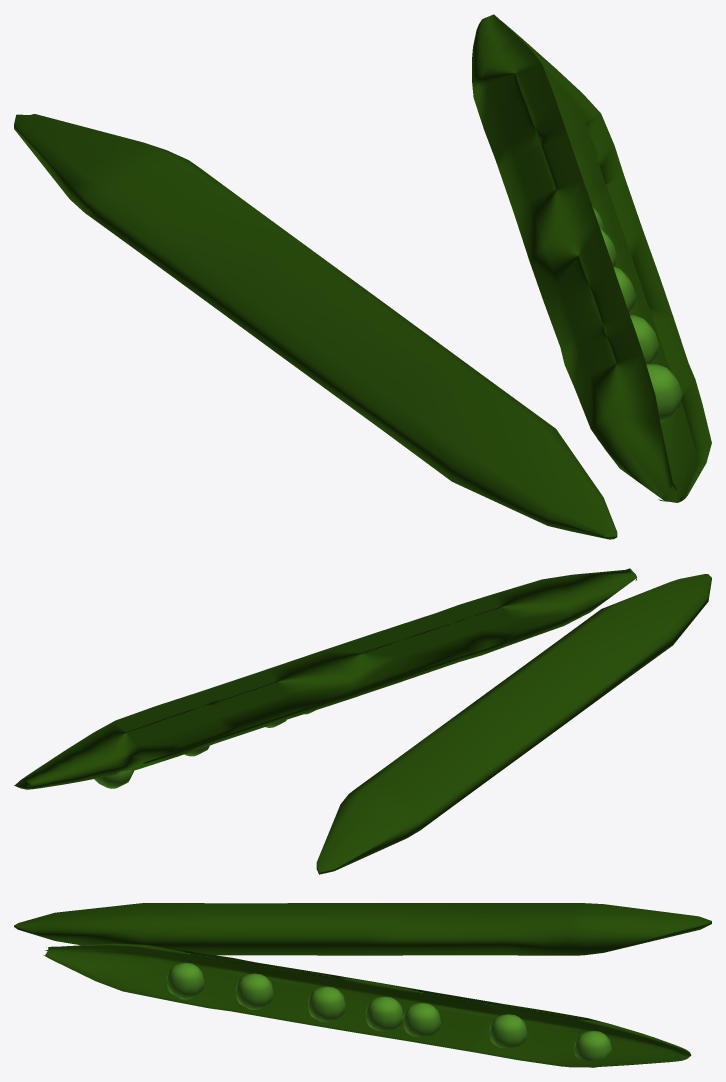
The model's file is peass.fbx.
3 renders of one model, top to bottom at view 1: azimuth 30°, elevation 25°; view 2: azimuth 150°, elevation 25°; view 3: azimuth 270°, elevation 25°, orthographic. The views are drawn at different scales.
Visible parts, largest first — view 1: polySurface3, polySurface17, polySurface13; view 2: polySurface17, polySurface3; view 3: polySurface3, polySurface17, polySurface13, polySurface18, polySurface19, polySurface20, polySurface21, polySurface22, polySurface23.
Boxes of the visible parts, x1=… form: polySurface3: x1=14, y1=114, x2=617, y2=539; polySurface17: x1=472, y1=14, x2=711, y2=502; polySurface13: x1=646, y1=364, x2=682, y2=422; polySurface17: x1=14, y1=568, x2=636, y2=789; polySurface3: x1=316, y1=574, x2=711, y2=874; polySurface3: x1=14, y1=903, x2=711, y2=955; polySurface17: x1=43, y1=943, x2=691, y2=1067; polySurface13: x1=166, y1=962, x2=204, y2=999; polySurface18: x1=235, y1=973, x2=273, y2=1009; polySurface19: x1=308, y1=986, x2=345, y2=1022; polySurface20: x1=365, y1=996, x2=403, y2=1031; polySurface21: x1=403, y1=1002, x2=440, y2=1037; polySurface22: x1=489, y1=1014, x2=527, y2=1048; polySurface23: x1=574, y1=1030, x2=611, y2=1067.
Bounding box in the file's own units: 30.92 × 4.87 × 61.82.
